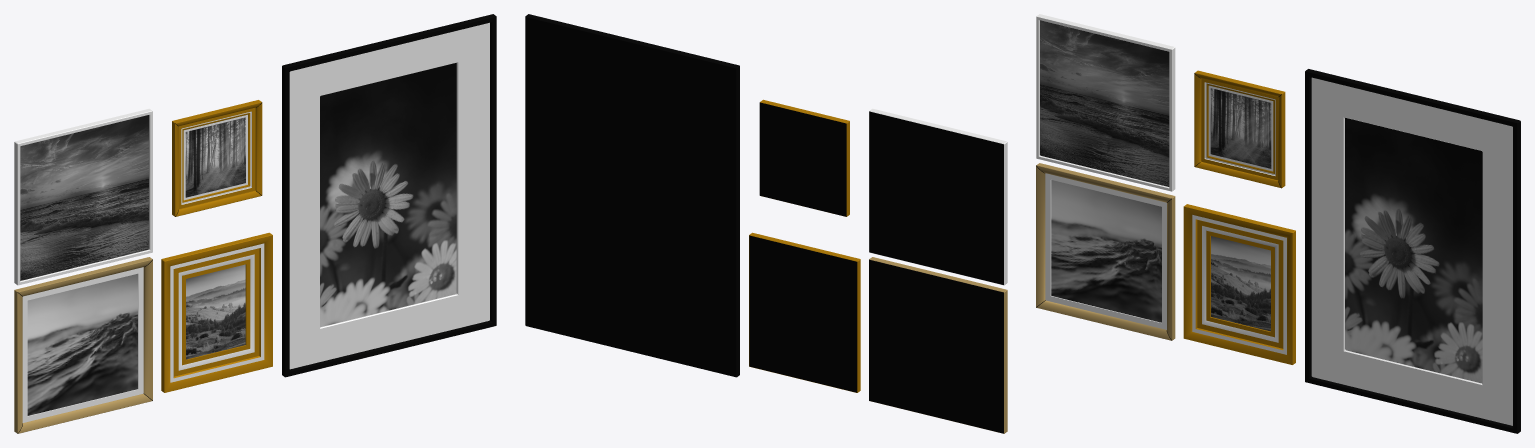
File: Frames_Version_02.fbx
3 views of the same model, side by side, from view 1: azimuth 30°, elevation 25°; view 2: azimuth 150°, elevation 25°; view 3: azimuth 330°, elevation 25° (orthographic).
Visible parts, largest first — view 1: Frame_05, Frame_03, Frame_01, Frame_04, Frame_02; view 2: Frame_05, Frame_03, Frame_01, Frame_04, Frame_02; view 3: Frame_05, Frame_03, Frame_01, Frame_04, Frame_02.
Boxes of the visible parts, x1,y1,x2,y2 form: Frame_05: (282,14,496,377); Frame_03: (14,257,152,433); Frame_01: (14,108,152,285); Frame_04: (161,232,272,392); Frame_02: (172,100,262,216); Frame_05: (525,14,739,377); Frame_03: (869,257,1007,433); Frame_01: (869,108,1007,285); Frame_04: (749,232,860,392); Frame_02: (759,99,849,216); Frame_05: (1305,69,1520,433); Frame_03: (1036,163,1175,340); Frame_01: (1036,14,1175,191); Frame_04: (1183,204,1295,364); Frame_02: (1194,70,1285,188).
Size of the model in its own units: 237 by 2.99 by 147.
Materials: 1 (1 with a texture image).
